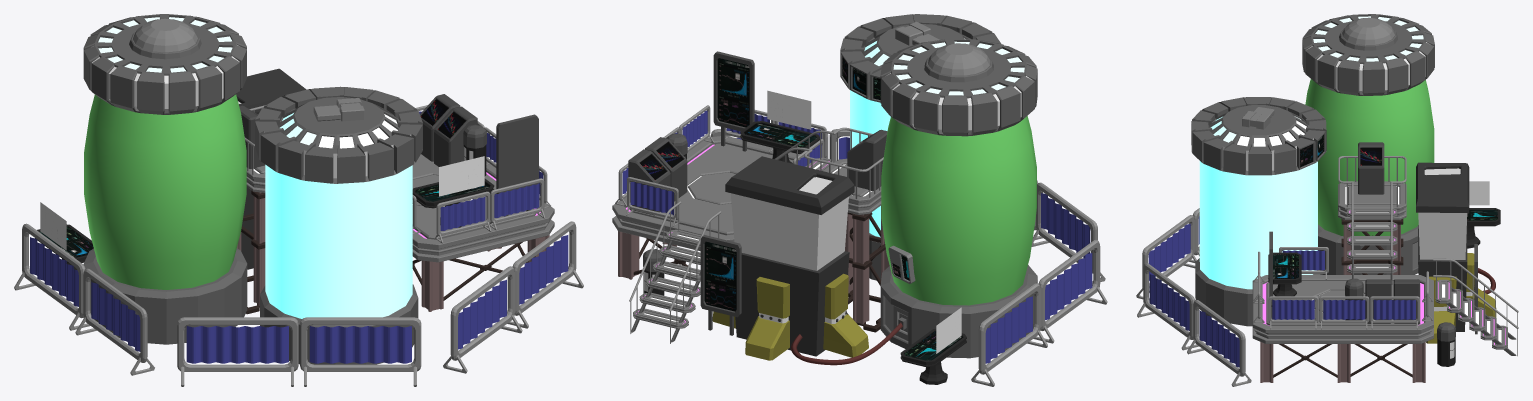
The model's file is Portion_factory.fbx.
3 renders of one model, left to right at view 1: azimuth 30°, elevation 25°; view 2: azimuth 150°, elevation 25°; view 3: azimuth 270°, elevation 25°, orthographic. The views are drawn at different scales.
Parts seen in each view (by area): view 1: NurbsPath.007; view 2: NurbsPath.007; view 3: NurbsPath.007.
Part boxes in pixels (bbox=[...]): NurbsPath.007: bbox=[14, 14, 583, 386]; NurbsPath.007: bbox=[612, 14, 1107, 386]; NurbsPath.007: bbox=[1136, 14, 1518, 386].
Size of the model in its own units: 1857 by 1225 by 1760.
